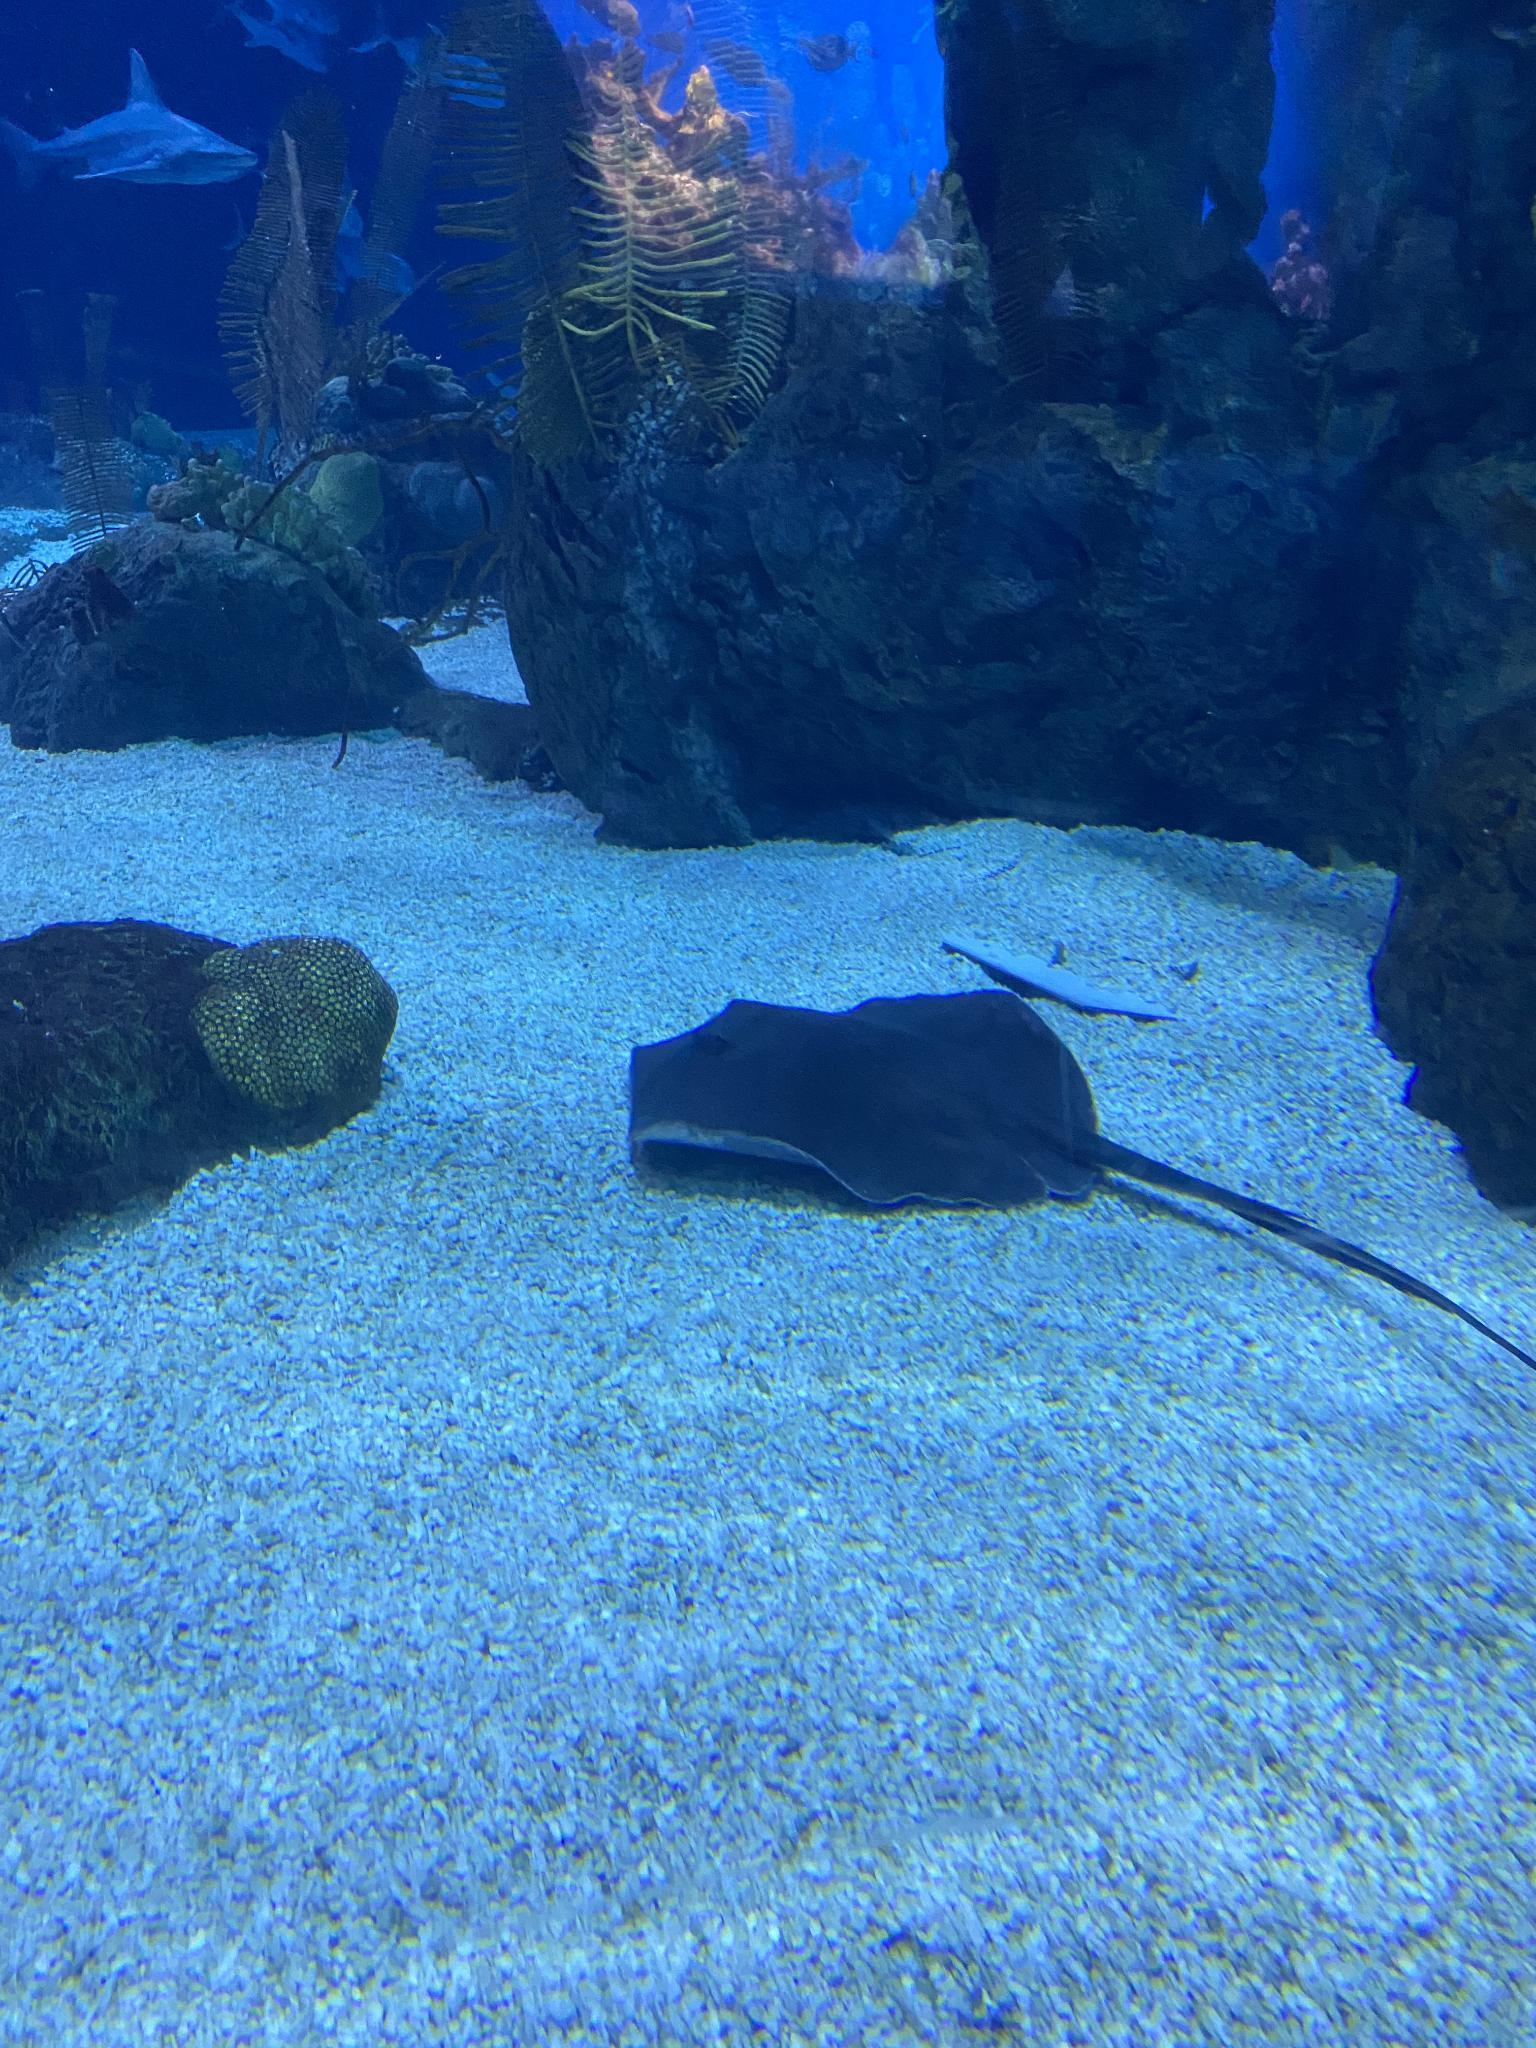fish: (224, 202, 416, 305), (349, 2, 503, 110), (205, 0, 337, 74)
shark: (3, 37, 265, 189)
stingray: (623, 982, 1105, 1216)
